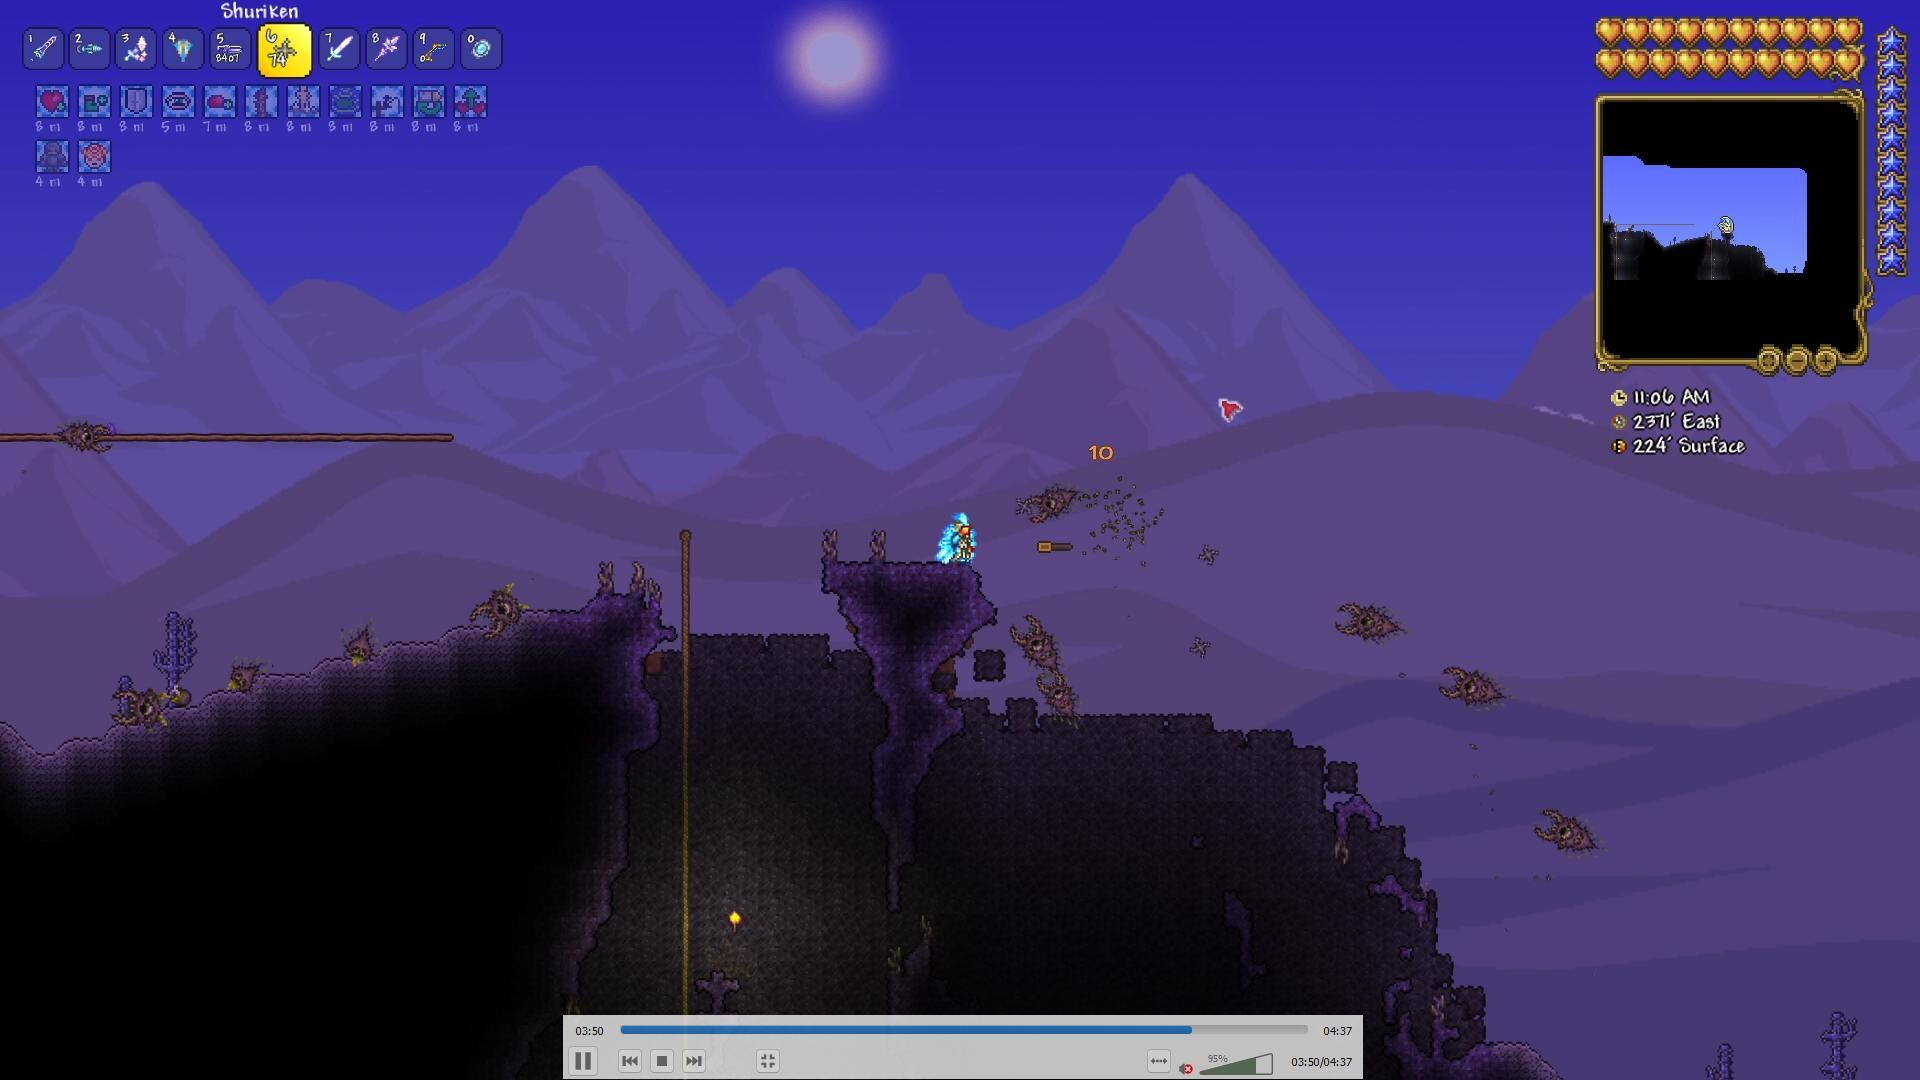crimera: (1530, 804, 1600, 865), (1033, 670, 1095, 729), (1331, 592, 1403, 642), (1005, 615, 1065, 674), (1435, 661, 1509, 705), (1022, 480, 1081, 525)
